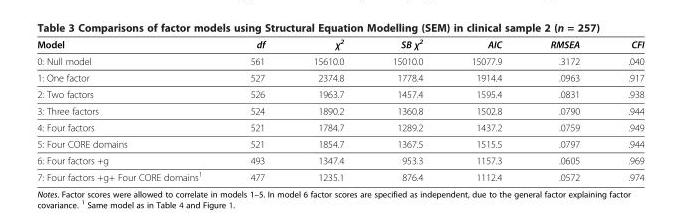table: (36, 37, 643, 182)
table column: (36, 37, 225, 182), (288, 37, 367, 182), (367, 37, 446, 182), (446, 37, 525, 182), (525, 37, 603, 182), (225, 37, 288, 182), (603, 37, 643, 182)
table column header: (36, 37, 643, 52)
table row: (36, 52, 643, 69), (36, 85, 643, 102), (36, 118, 643, 135), (36, 69, 643, 85), (36, 102, 643, 118), (36, 135, 643, 151), (36, 151, 643, 167), (36, 37, 643, 52), (36, 167, 643, 182)
